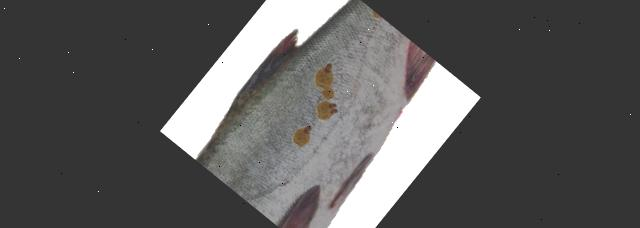Parasitic Disease: (196, 0, 434, 228)
